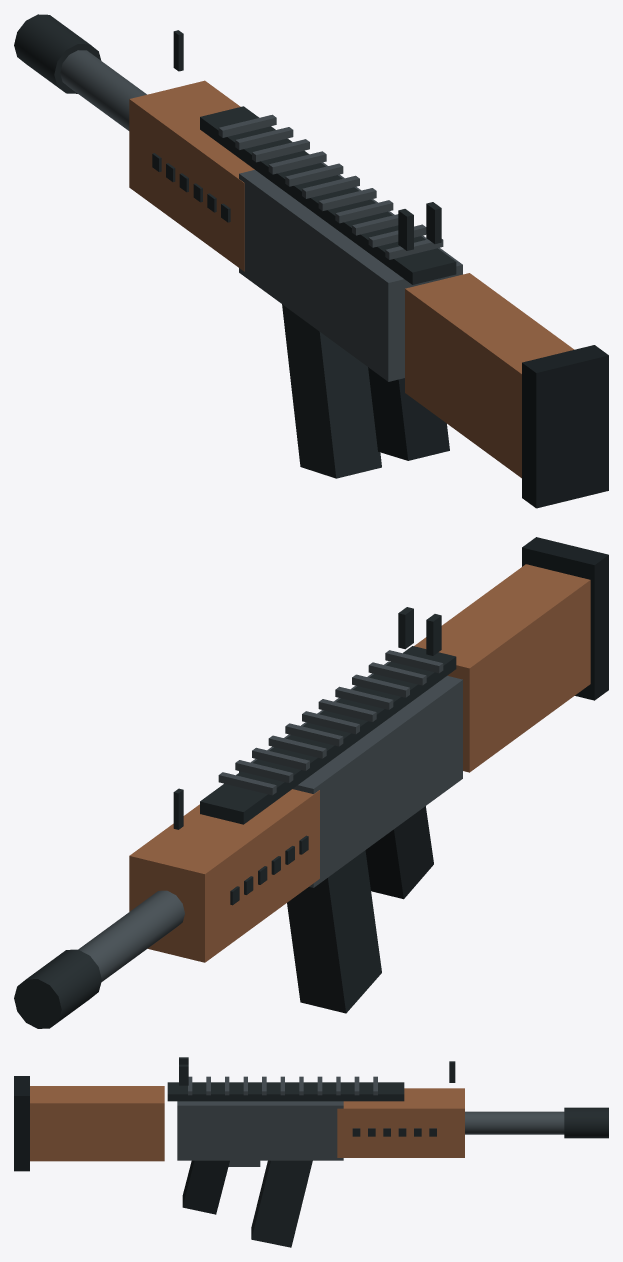
Rendered from hostil.glb.
3 renders of one model, top to bottom at view 1: azimuth 30°, elevation 25°; view 2: azimuth 150°, elevation 25°; view 3: azimuth 270°, elevation 25°, orthographic. The views are drawn at different scales.
Visible parts, largest first — view 1: Cuerpo2, Cuerpo0, Cuerpo1, Cuerpo3, Cargador; view 2: Cuerpo2, Cuerpo0, Cuerpo3, Cargador, Cuerpo1; view 3: Cuerpo2, Cuerpo0, Cuerpo3, Cargador, Cuerpo1.
Part boxes in pixels (x1,y1,x2,y2): Cuerpo2: (129, 80, 574, 478); Cuerpo0: (60, 50, 462, 381); Cuerpo1: (368, 345, 608, 508); Cuerpo3: (14, 14, 456, 284); Cargador: (282, 304, 381, 478); Cuerpo2: (129, 564, 590, 962); Cuerpo0: (78, 650, 462, 981); Cuerpo3: (14, 607, 456, 1028); Cargador: (287, 850, 381, 1013); Cuerpo1: (365, 537, 608, 899); Cuerpo2: (30, 1086, 464, 1161); Cuerpo0: (177, 1076, 564, 1166); Cuerpo3: (167, 1057, 608, 1138); Cargador: (251, 1160, 312, 1247); Cuerpo1: (14, 1076, 229, 1214).
Size of the model in its own units: 0.081 by 0.31 by 0.9305.
